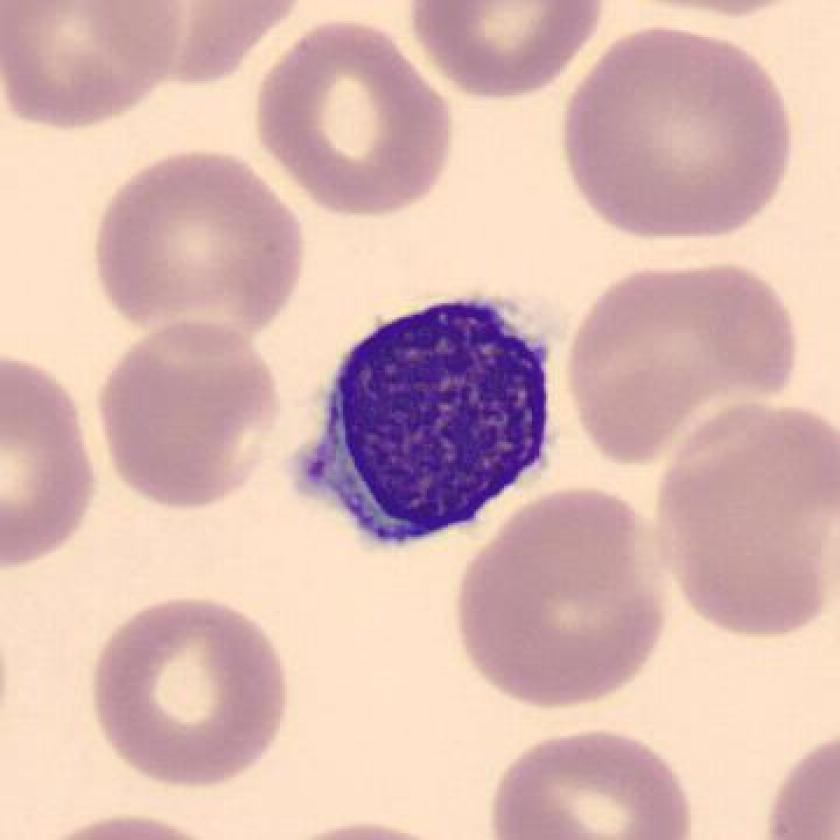lymphocyte: (276, 286, 575, 566)
